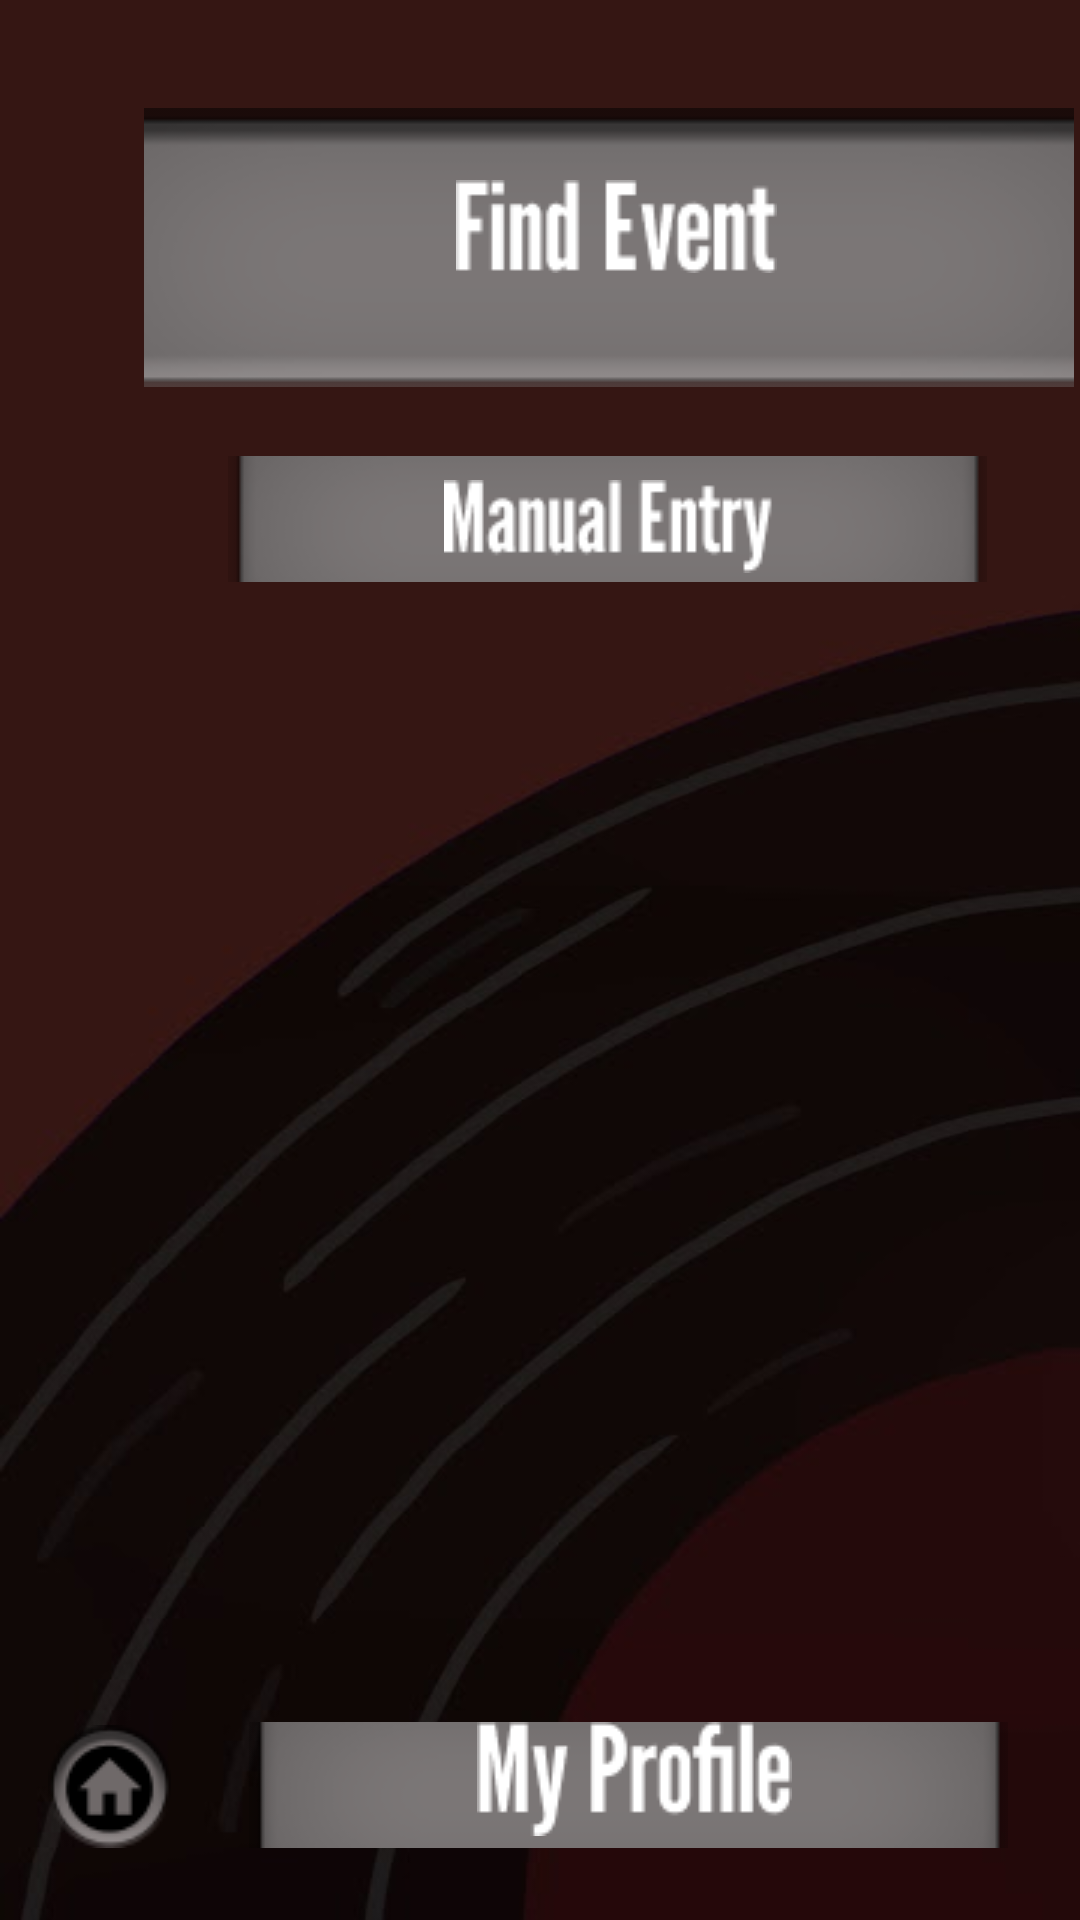

Where to tap for icons on this 1080 x 1920 app screen, as (x,y):
home circle: (109,1789)
